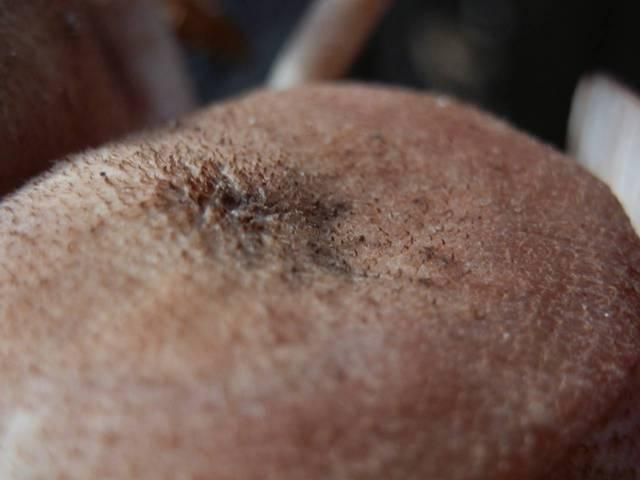Edible Mushroom: (0, 76, 639, 479)
